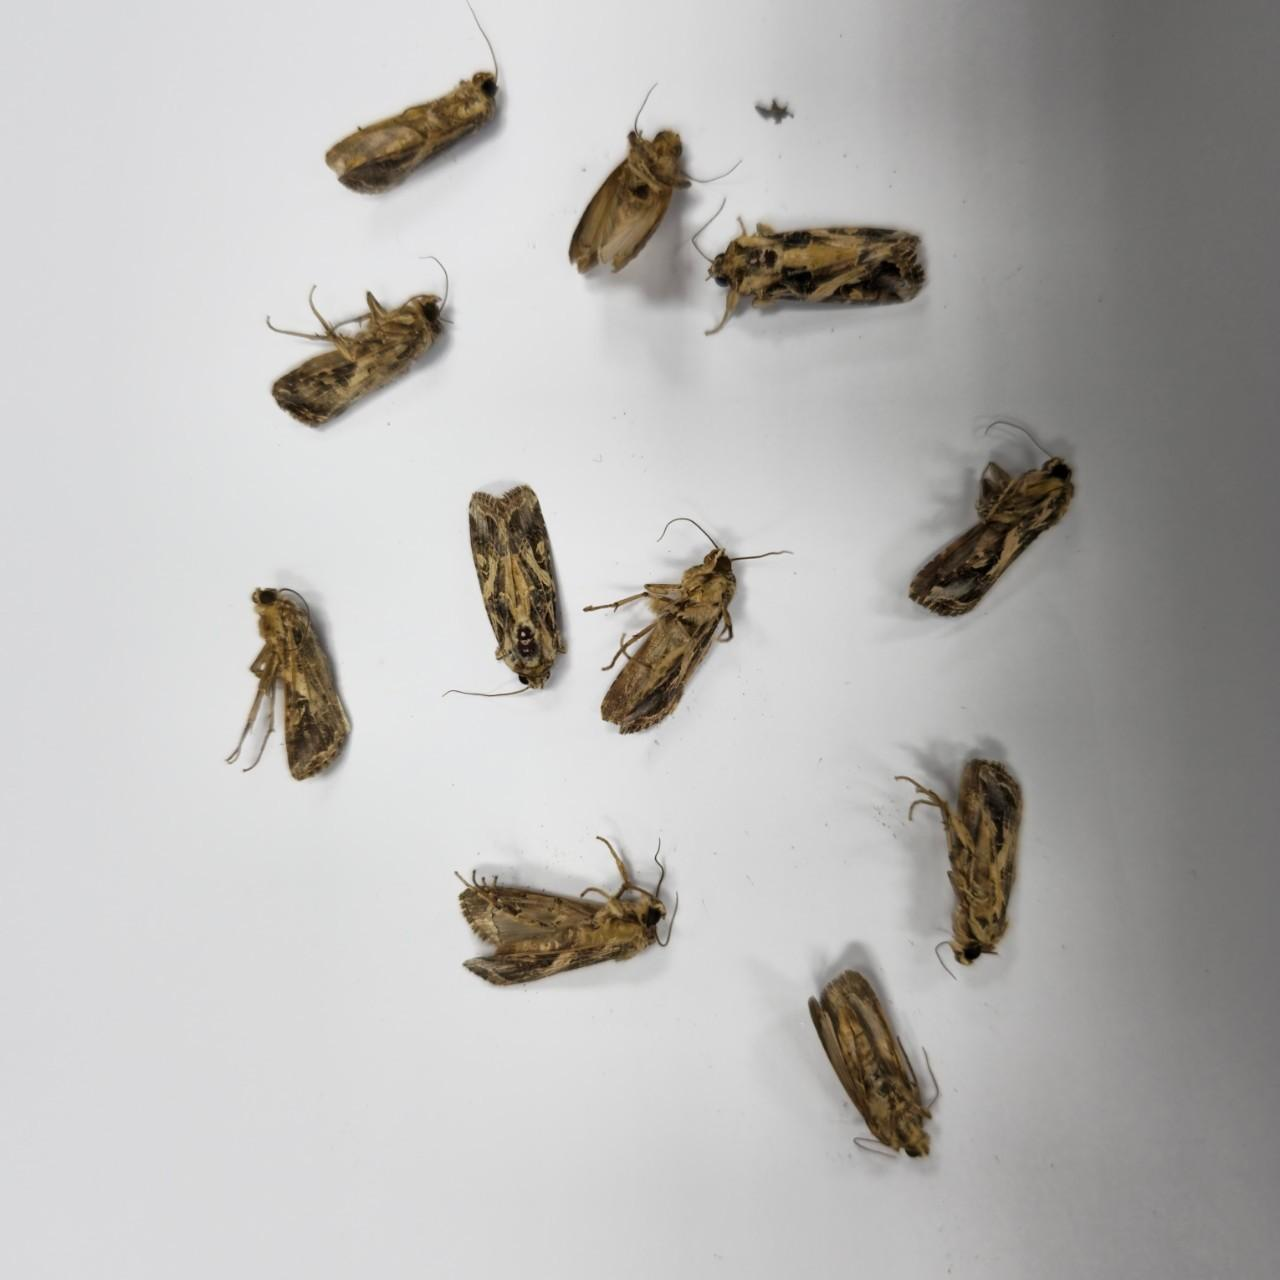Spodoptera litura: (584, 518, 794, 731), (454, 833, 680, 986), (325, 1, 502, 195), (568, 83, 742, 275), (908, 420, 1076, 618), (692, 196, 925, 336), (267, 254, 454, 427), (896, 758, 1024, 978), (442, 484, 567, 695), (808, 969, 942, 1160), (225, 586, 353, 782)
